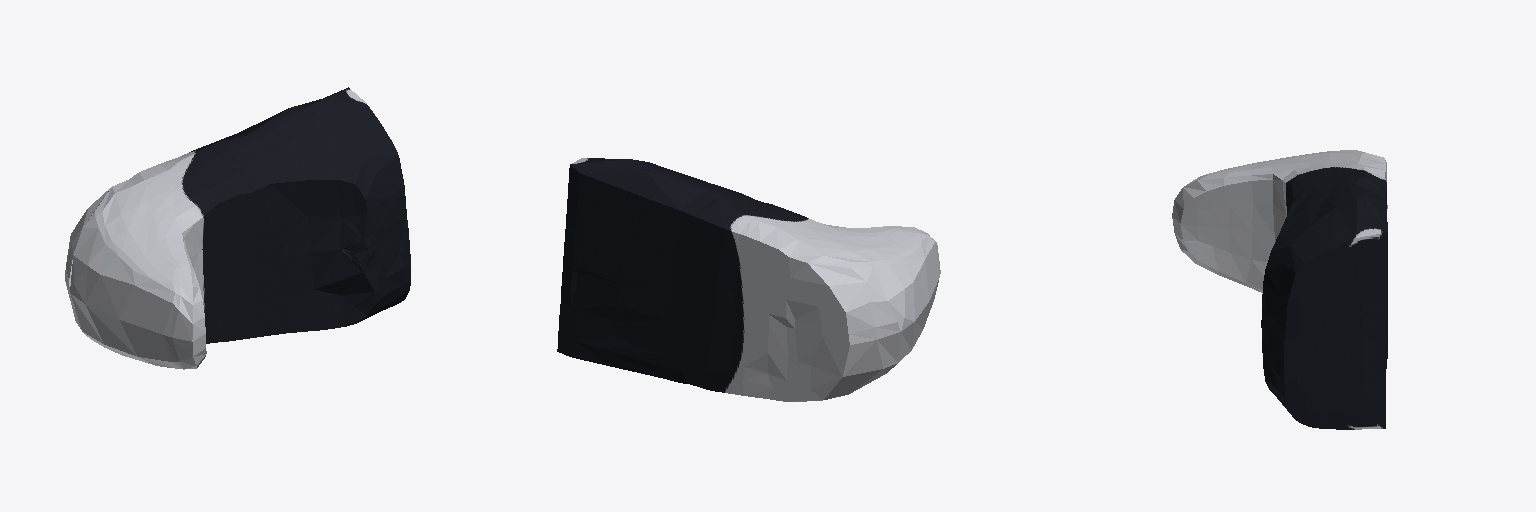
The picture shows the model from 3 angles: view 1: azimuth 30°, elevation 25°; view 2: azimuth 150°, elevation 25°; view 3: azimuth 270°, elevation 25°; orthographic projection.
Parts seen in each view (by area): view 1: L_ANKLE_R-463-FACES; view 2: L_ANKLE_R-463-FACES; view 3: L_ANKLE_R-463-FACES.
Boxes of the visible parts, x1=… form: L_ANKLE_R-463-FACES: x1=65, y1=87, x2=410, y2=369; L_ANKLE_R-463-FACES: x1=557, y1=158, x2=940, y2=401; L_ANKLE_R-463-FACES: x1=1172, y1=150, x2=1387, y2=429.
Size of the model in its own units: 0.1885 by 0.1143 by 0.1104.
Materials: 1 (1 with a texture image).